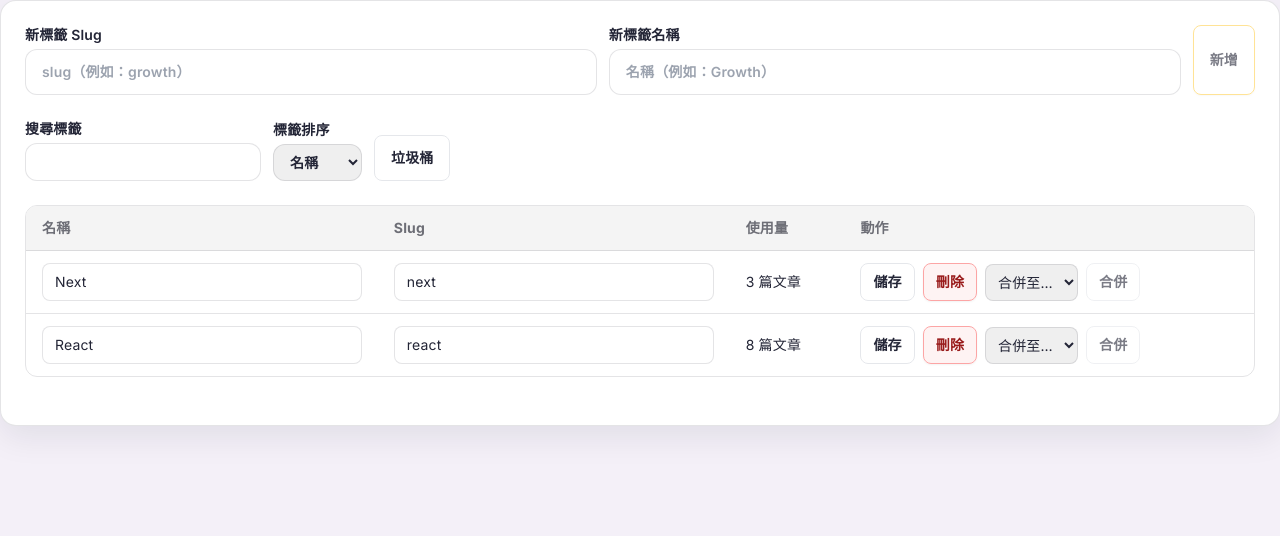
TagAdminClient › creates a new tag
The width and height of the screenshot is (1280, 536).
Fill new tag form
Type "Vue" into the field with placeholder "名稱（例如：Growth）".
click(895, 72); type("Vue")  # box [609,49,1181,95]
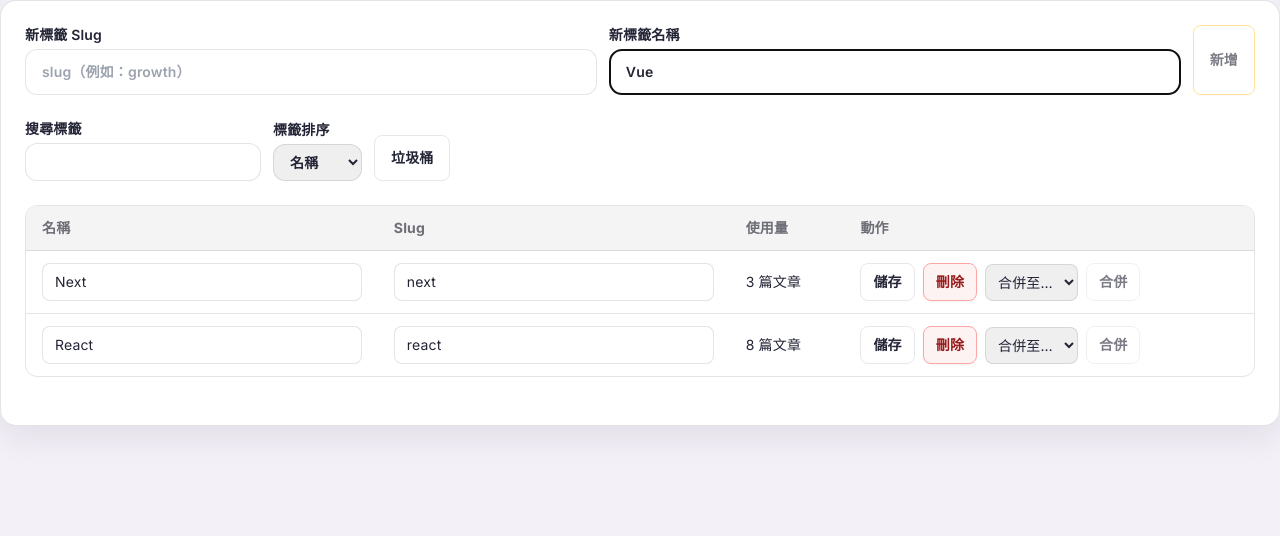
Type "vue" into the field with placeholder "slug（例如：growth）".
click(311, 72); type("vue")  # box [25,49,597,95]
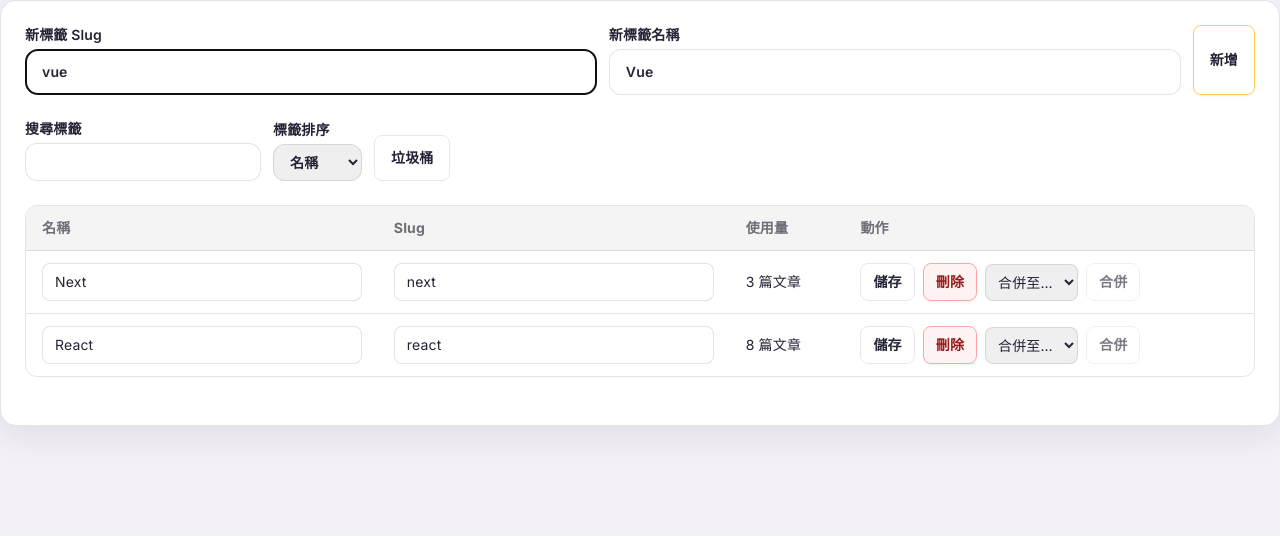
Click create
Click the button "新增".
click(1224, 60)  # box [1193,25,1255,95]
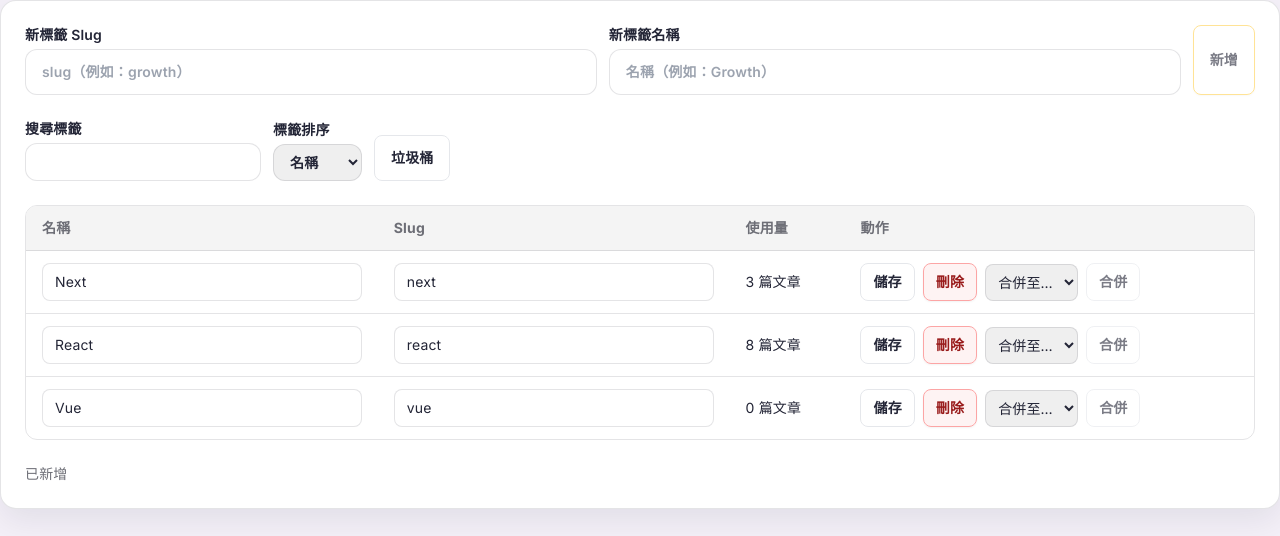
Expected: the text "已新增" is shown, [25,465,68,482]
Expected: the number of fields showing "Vue" is 1, [42,389,362,427]
Expected: the field with placeholder "名稱（例如：Growth）" is empty, [609,49,1181,95]
